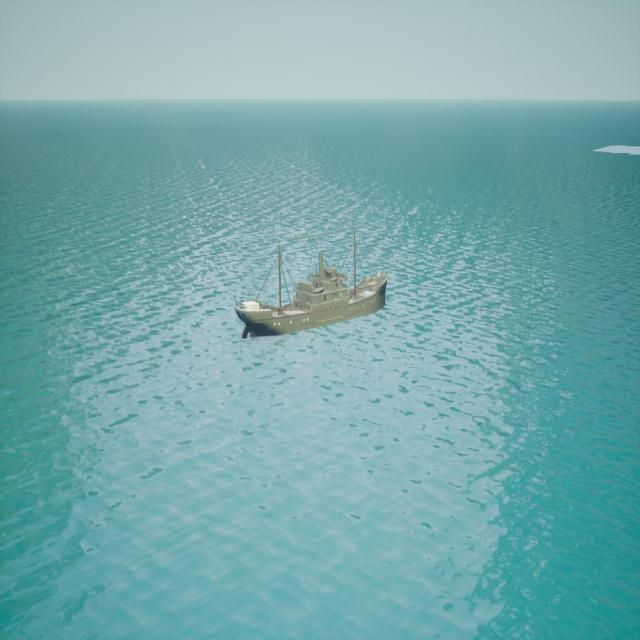fishing ship: (238, 243, 390, 339)
